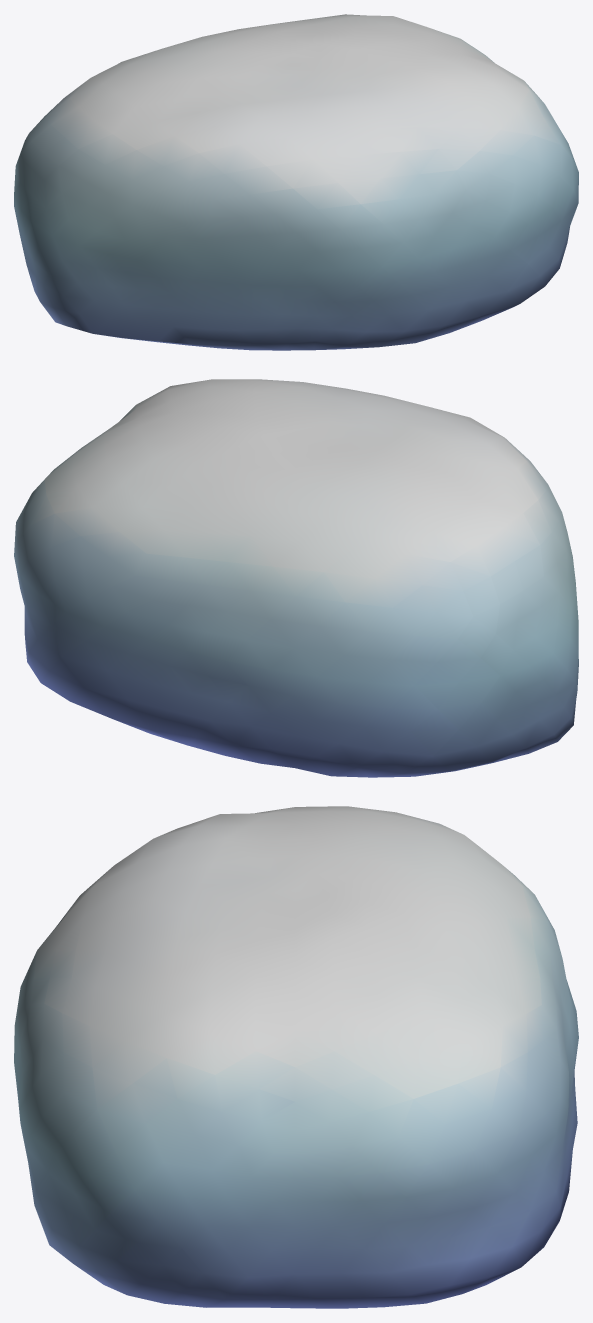
The model's file is glass_rock_river_a.glb.
The picture shows the model from 3 angles, top to bottom: view 1: azimuth 30°, elevation 25°; view 2: azimuth 150°, elevation 25°; view 3: azimuth 270°, elevation 25°; orthographic projection. The views are drawn at different scales.
Visible parts, largest first — view 1: glass_rock_river_a; view 2: glass_rock_river_a; view 3: glass_rock_river_a.
Part boxes in pixels (x1,y1,x2,y2): glass_rock_river_a: [14, 14, 578, 350]; glass_rock_river_a: [14, 379, 578, 777]; glass_rock_river_a: [14, 806, 578, 1308].
Size of the model in its own units: 2.19 by 0.9965 by 1.71.
